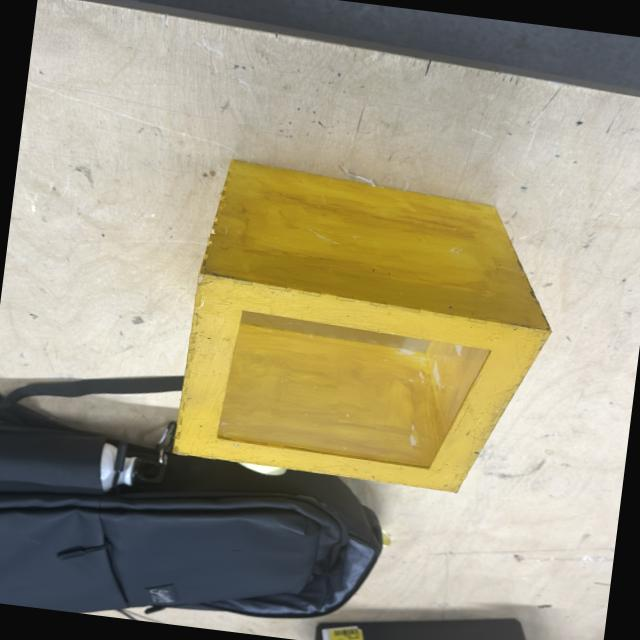yellow_bin: (169, 155, 568, 503)
